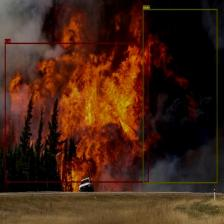fire: (4, 43, 148, 182)
smoke: (142, 9, 218, 183)
